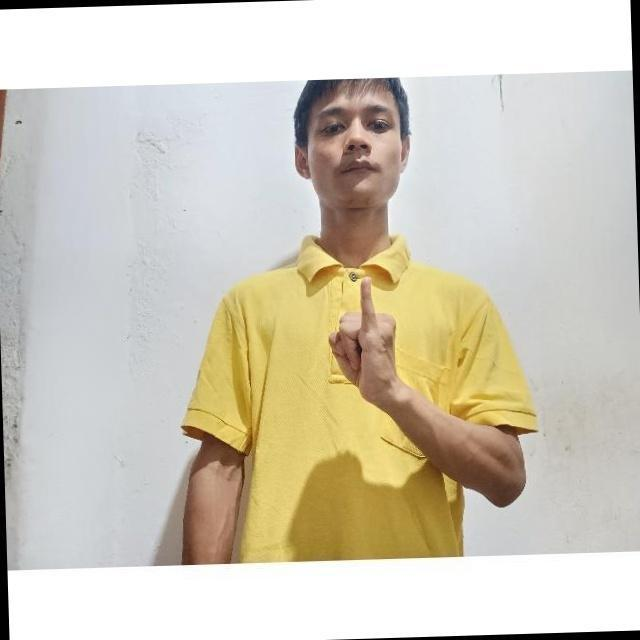I: (324, 274, 399, 396)
